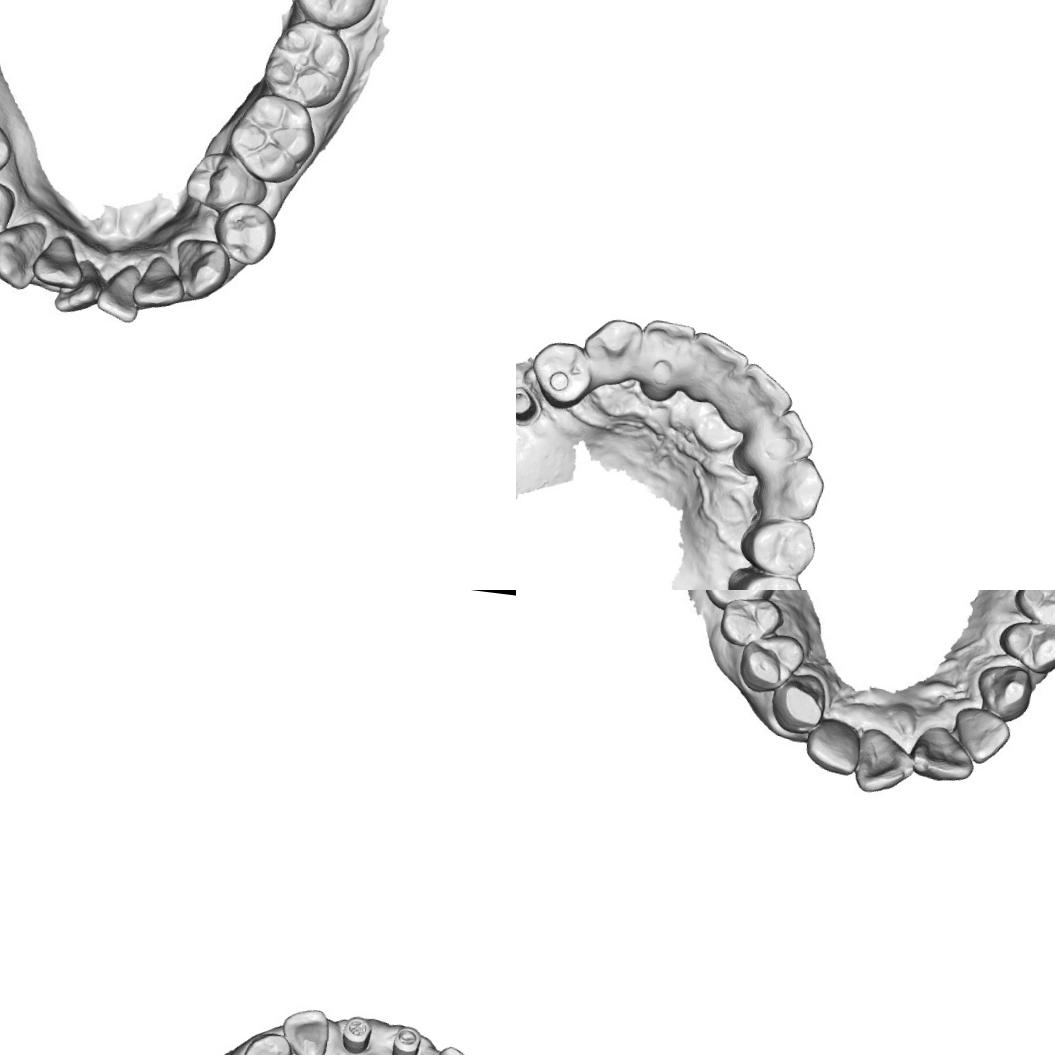abutment: (516, 382, 541, 428)
canine: (748, 448, 828, 524), (577, 311, 648, 393), (766, 674, 833, 739), (976, 657, 1040, 723), (172, 236, 233, 302), (0, 217, 45, 291), (238, 1028, 299, 1055)
implant: (338, 1014, 375, 1055), (388, 1023, 424, 1055)
incisor: (737, 403, 820, 477), (850, 722, 921, 802), (684, 329, 754, 404), (728, 358, 800, 430), (635, 316, 699, 393), (800, 713, 866, 777), (910, 726, 980, 786), (131, 252, 190, 312), (92, 260, 145, 325), (29, 232, 85, 293), (954, 706, 1010, 766), (53, 259, 106, 317), (278, 1004, 334, 1055), (421, 1042, 481, 1055)
molar: (224, 89, 321, 188), (262, 16, 356, 112), (288, 0, 383, 33), (698, 590, 778, 615)
premolar: (734, 510, 820, 584), (182, 147, 269, 217), (524, 335, 596, 415), (207, 200, 278, 268), (738, 628, 807, 696), (717, 590, 784, 653), (994, 615, 1055, 675), (726, 566, 809, 590), (1013, 590, 1055, 626), (0, 174, 15, 243)
